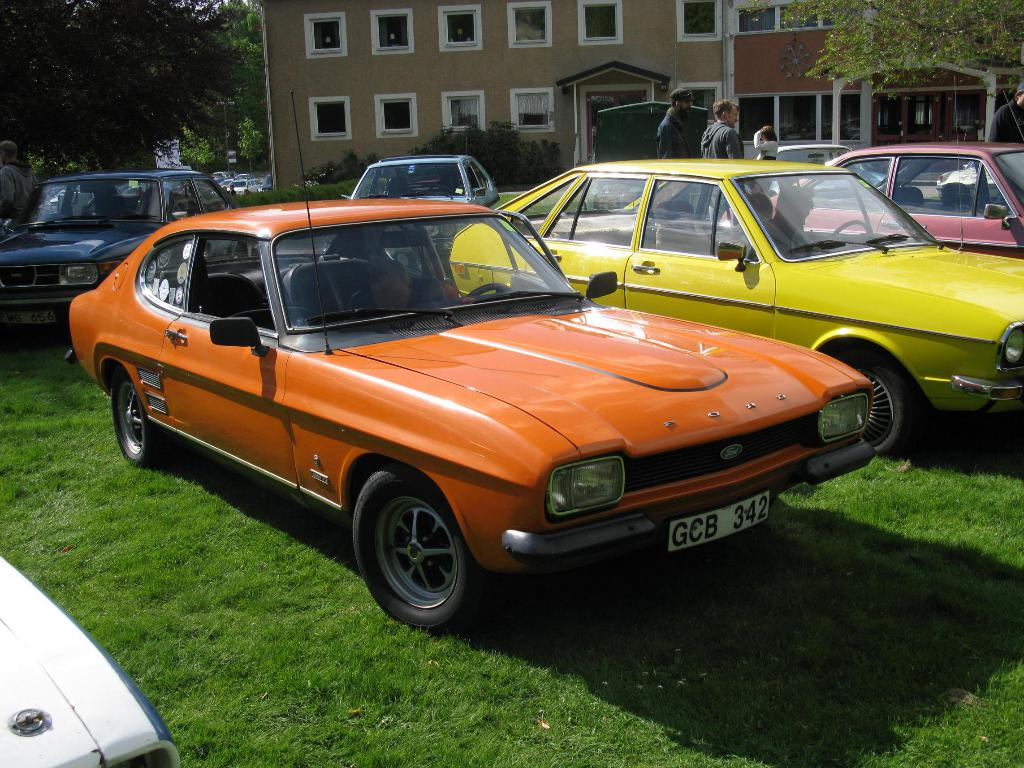Car: (71, 88, 871, 636), (449, 151, 1023, 463), (716, 138, 1023, 261), (0, 167, 233, 325), (341, 147, 501, 236)
